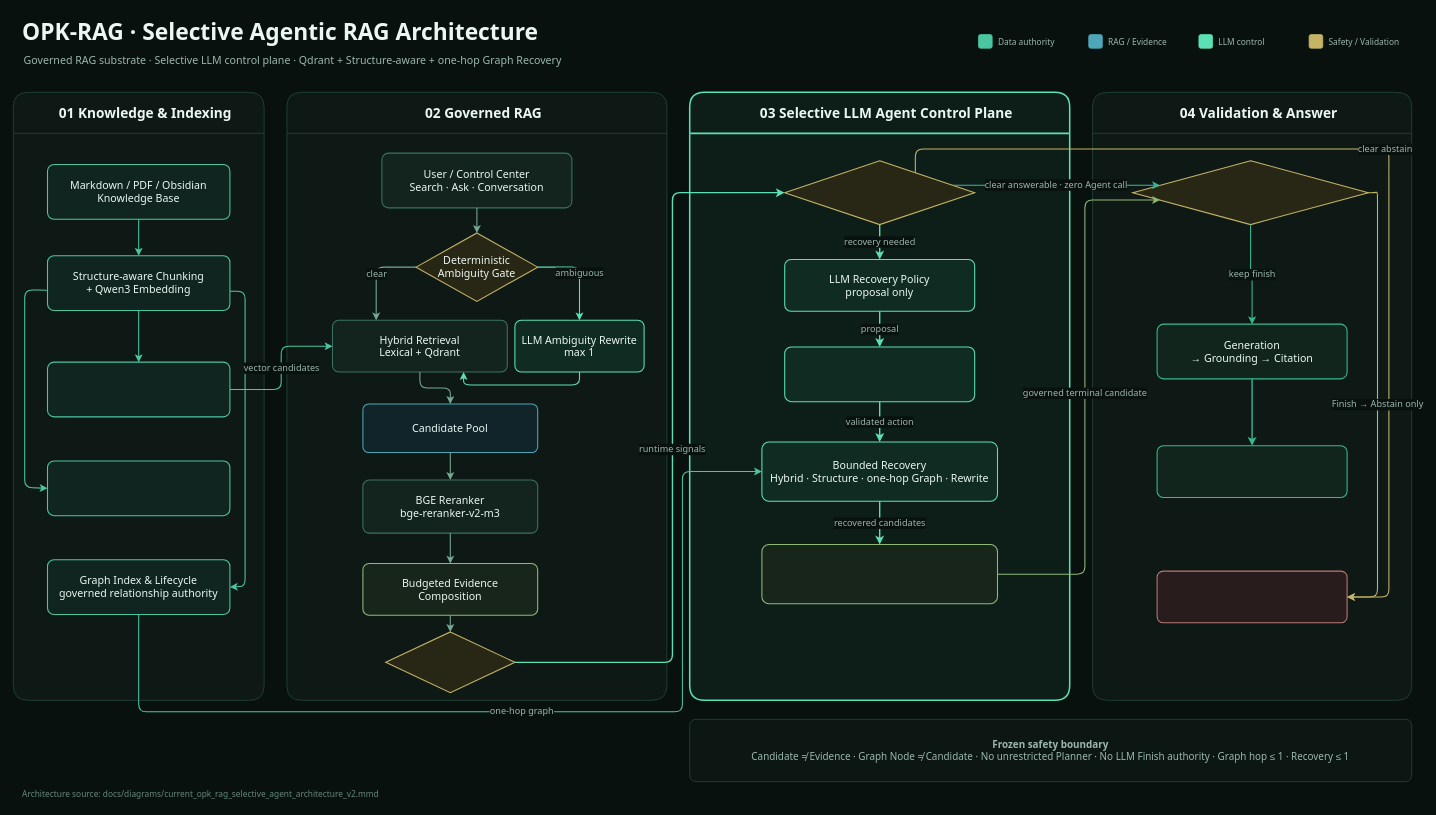
Some shapes in this 1436 by 815 pixel diagram are drawn without their labels. The centre of each missing label's shape, as x and y in pixels:
"Answerability" belongs at (x=450, y=662).
"Conflict Gate + optional LLM Abstention Veto" belongs at (x=1250, y=192).
"Controlled Refusal" belongs at (x=1251, y=596).
"Grounded Answer" belongs at (x=1251, y=471).
"Necessary-LLM Gate selective invocation" belongs at (x=879, y=192).
"PostgreSQL relational authority" belongs at (x=138, y=488).
"Pydantic Validation + Deterministic Guard" belongs at (x=879, y=374).
"Qdrant production vector authority" belongs at (x=138, y=389).
"Re-enter Shared Governed RAG Rerank → Evidence → Answerability" belongs at (x=879, y=574).
